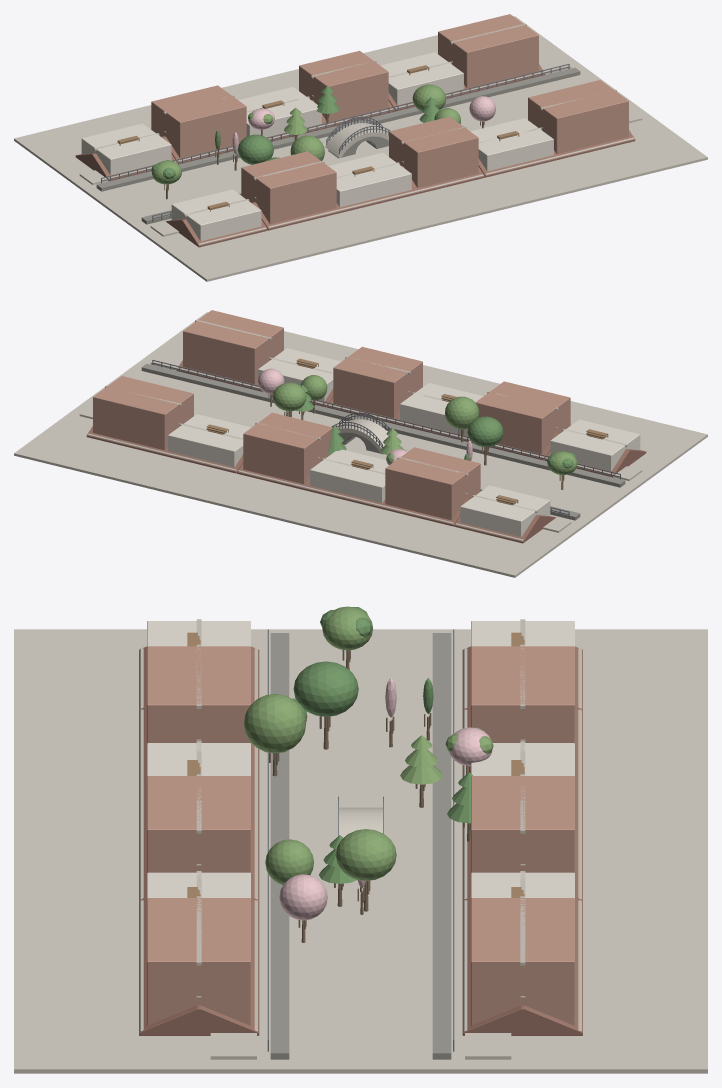
The model's file is DISTRICT_B_WATERTOWN.glb.
3 views of the same model, one above another, from view 1: azimuth 30°, elevation 25°; view 2: azimuth 150°, elevation 25°; view 3: azimuth 270°, elevation 25° (orthographic). The views are drawn at different scales.
Visible parts, largest first — view 1: B_Ground, Mass.010, Mass.011, Mass.002, Mass.003, Mass.006, Mass.007, B_Bank, Mass.001, Mass, Mass.004, Mass.008 (+17 smaller); view 2: B_Ground, Mass.011, Mass.010, Mass.003, Mass.006, Mass.007, Mass.002, B_Bank, Mass.001, Mass.005, Mass.009, Mass (+17 smaller); view 3: B_Ground, B_Bank, Mass.011, Mass.010, Mass.007, Mass.006, Mass.002, Mass.003, Mass.004, Tree_Leaves.003, Roof_Pitched.011, Roof_Pitched.010 (+20 smaller).
Boxes of the visible parts, left/top/right/bottom form: B_Ground: left=14, top=16, right=707, bottom=281; Mass.010: left=528, top=80, right=628, bottom=154; Mass.011: left=438, top=14, right=538, bottom=88; Mass.002: left=241, top=151, right=336, bottom=224; Mass.003: left=151, top=85, right=246, bottom=158; Mass.006: left=389, top=116, right=478, bottom=188; Mass.007: left=299, top=50, right=388, bottom=121; B_Bank: left=96, top=67, right=580, bottom=224; Mass.001: left=81, top=123, right=171, bottom=175; Mass: left=171, top=189, right=261, bottom=240; Mass.004: left=328, top=153, right=411, bottom=207; Mass.008: left=470, top=118, right=553, bottom=171; B_Ground: left=14, top=312, right=707, bottom=577; Mass.011: left=93, top=376, right=193, bottom=450; Mass.010: left=183, top=310, right=283, bottom=384; Mass.003: left=385, top=447, right=480, bottom=520; Mass.006: left=333, top=346, right=422, bottom=418; Mass.007: left=243, top=412, right=332, bottom=484; Mass.002: left=475, top=381, right=570, bottom=454; B_Bank: left=141, top=363, right=625, bottom=520; Mass.001: left=460, top=485, right=550, bottom=536; Mass.005: left=310, top=449, right=388, bottom=503; Mass.009: left=168, top=414, right=251, bottom=467; Mass: left=550, top=419, right=640, bottom=471; B_Ground: left=14, top=629, right=707, bottom=1073; B_Bank: left=270, top=633, right=451, bottom=1059; Mass.011: left=471, top=898, right=574, bottom=1025; Mass.010: left=147, top=898, right=250, bottom=1025; Mass.007: left=471, top=776, right=574, bottom=872; Mass.006: left=147, top=776, right=250, bottom=872; Mass.002: left=147, top=646, right=250, bottom=743; Mass.003: left=471, top=646, right=574, bottom=743; Mass.004: left=147, top=743, right=250, bottom=775; Tree_Leaves.003: left=244, top=694, right=306, bottom=753; Roof_Pitched.011: left=462, top=959, right=582, bottom=1035; Roof_Pitched.010: left=139, top=960, right=259, bottom=1035.
Size of the model in its own units: 90 by 9.09 by 60.
